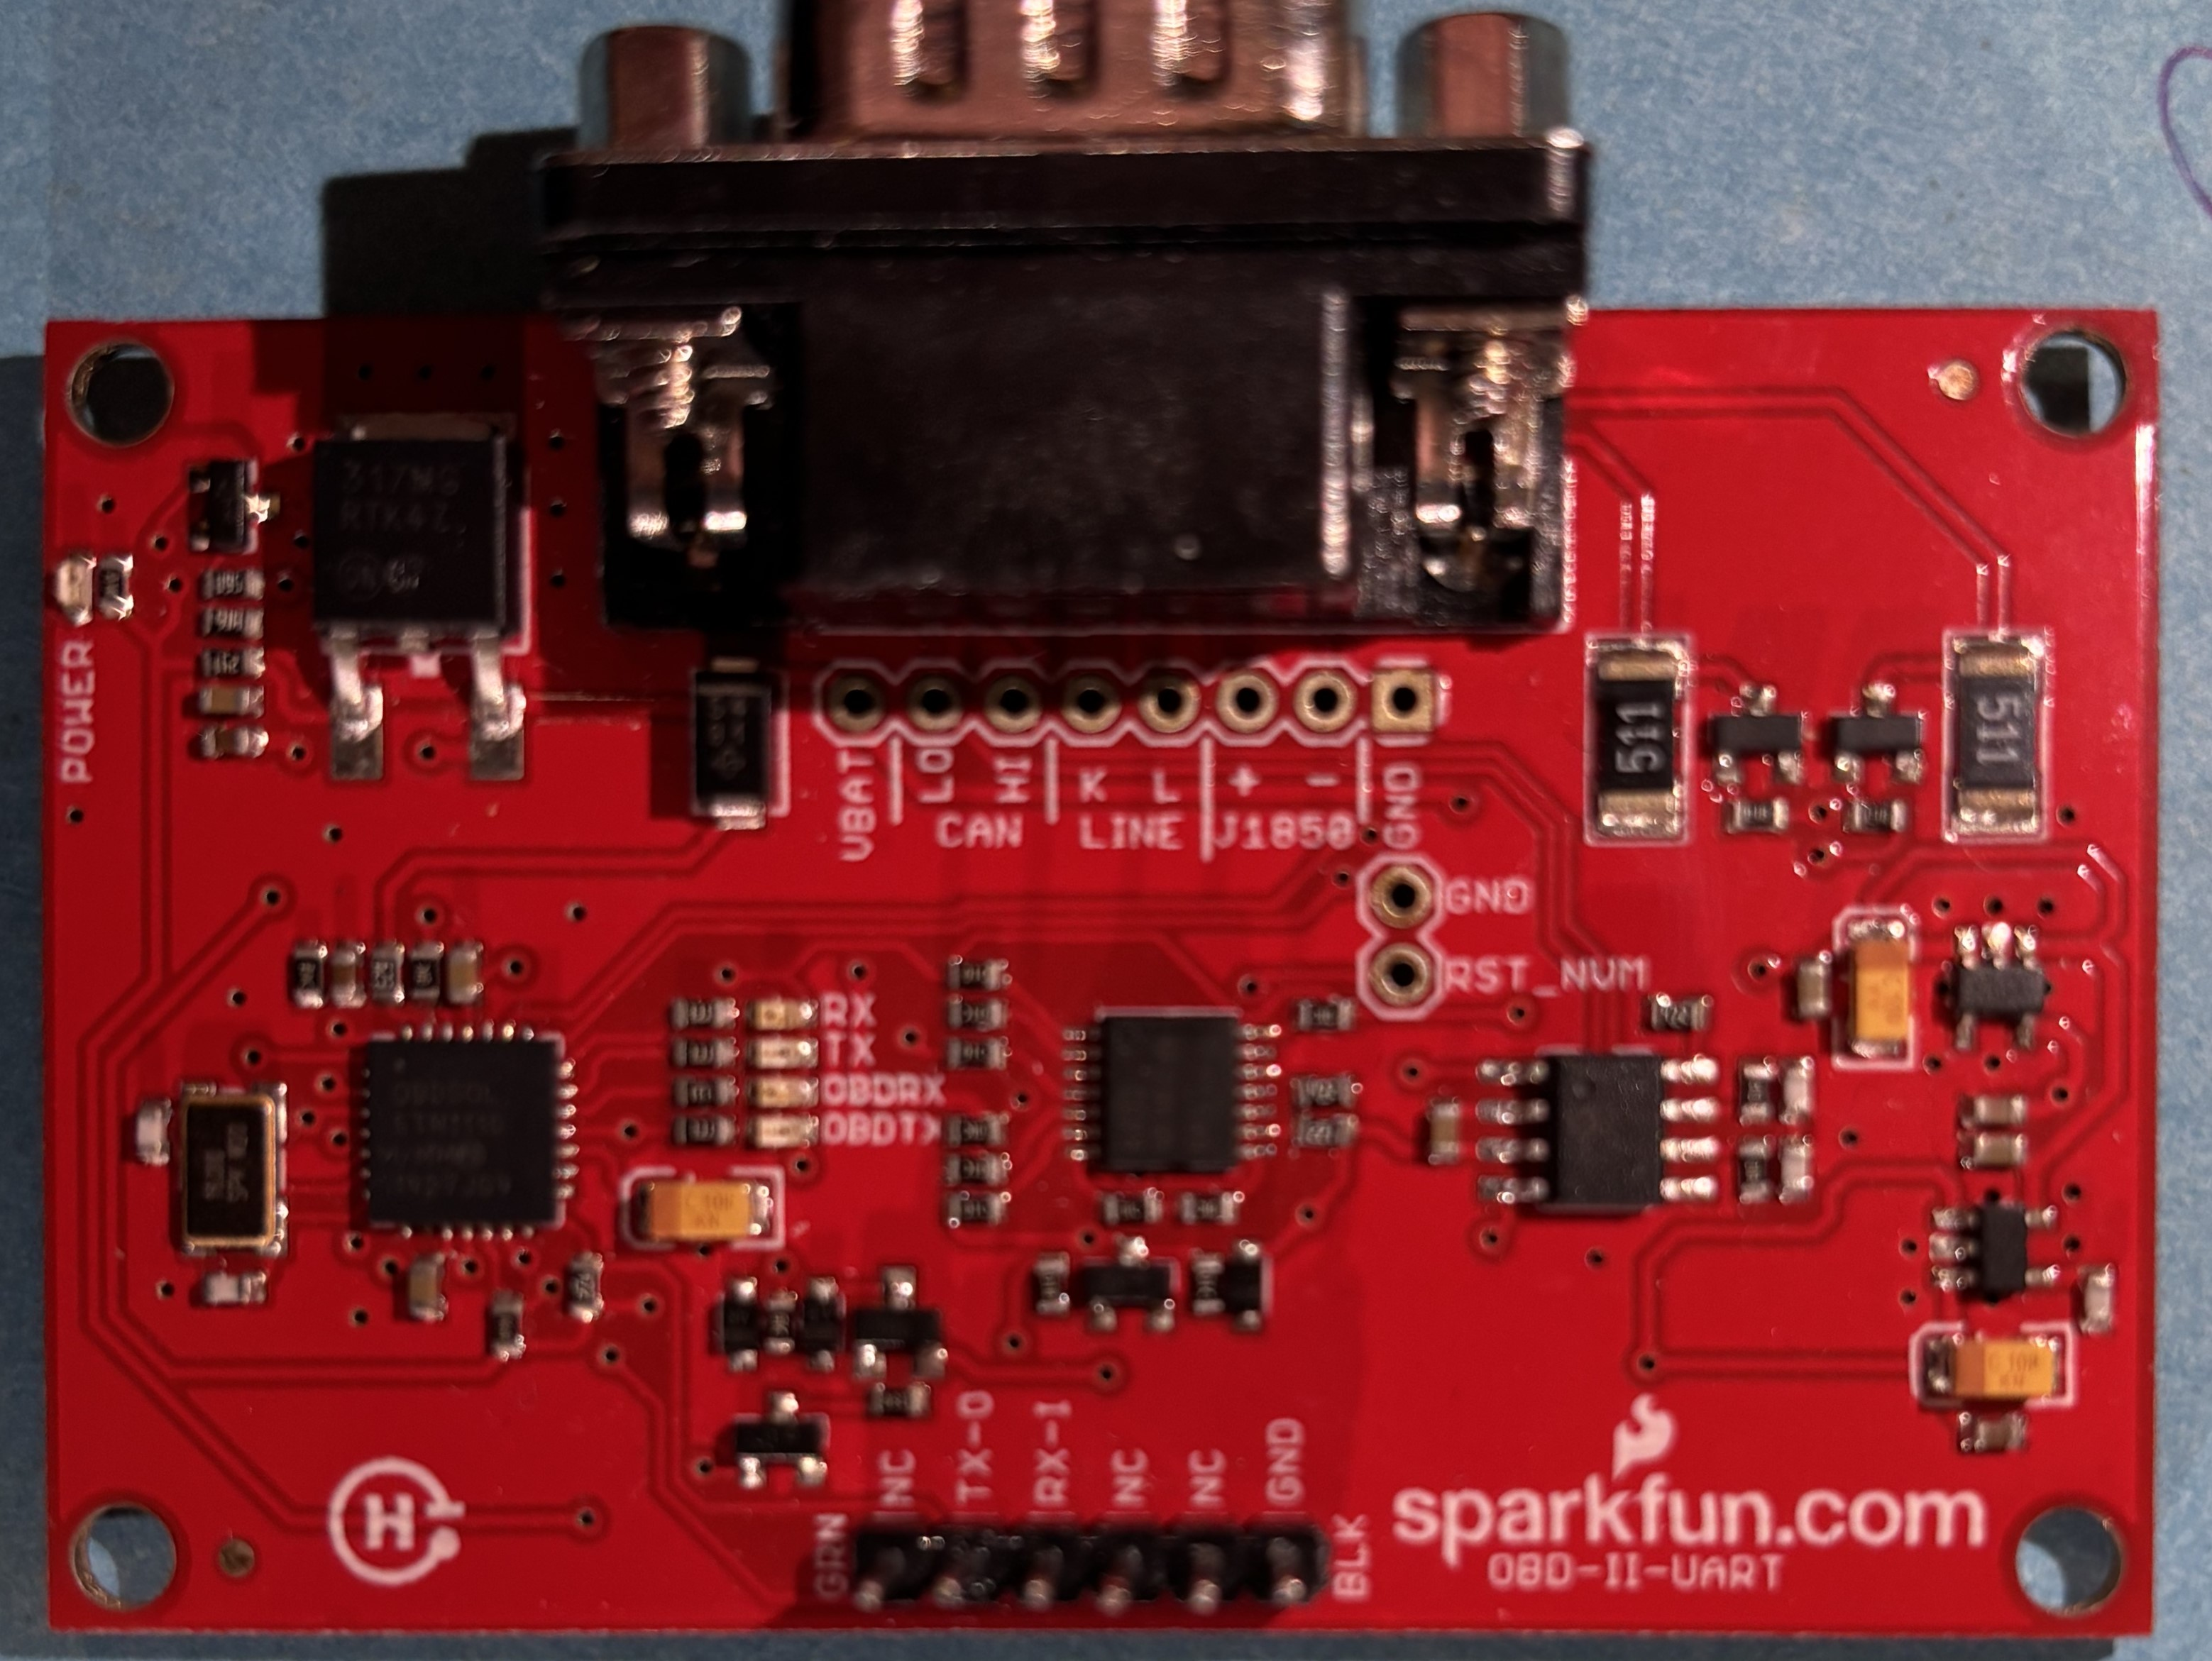tranzystor: (846, 1261, 952, 1380), (183, 450, 288, 555), (1075, 1232, 1185, 1331), (1825, 677, 1928, 782), (1706, 680, 1811, 783), (729, 1389, 832, 1492)
